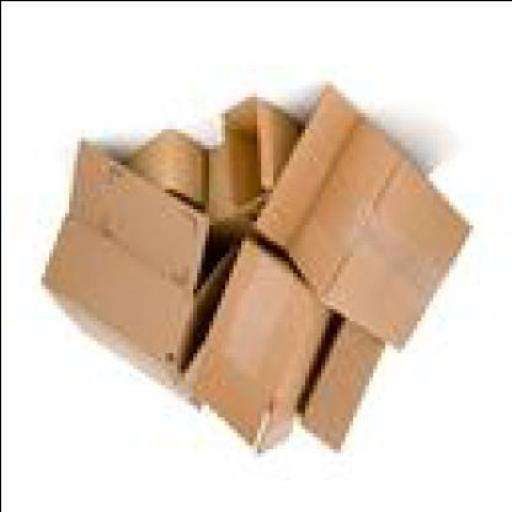cardboard: (256, 92, 476, 352), (44, 148, 240, 412), (192, 244, 336, 460), (212, 104, 308, 248), (304, 324, 384, 456), (120, 132, 212, 224)
